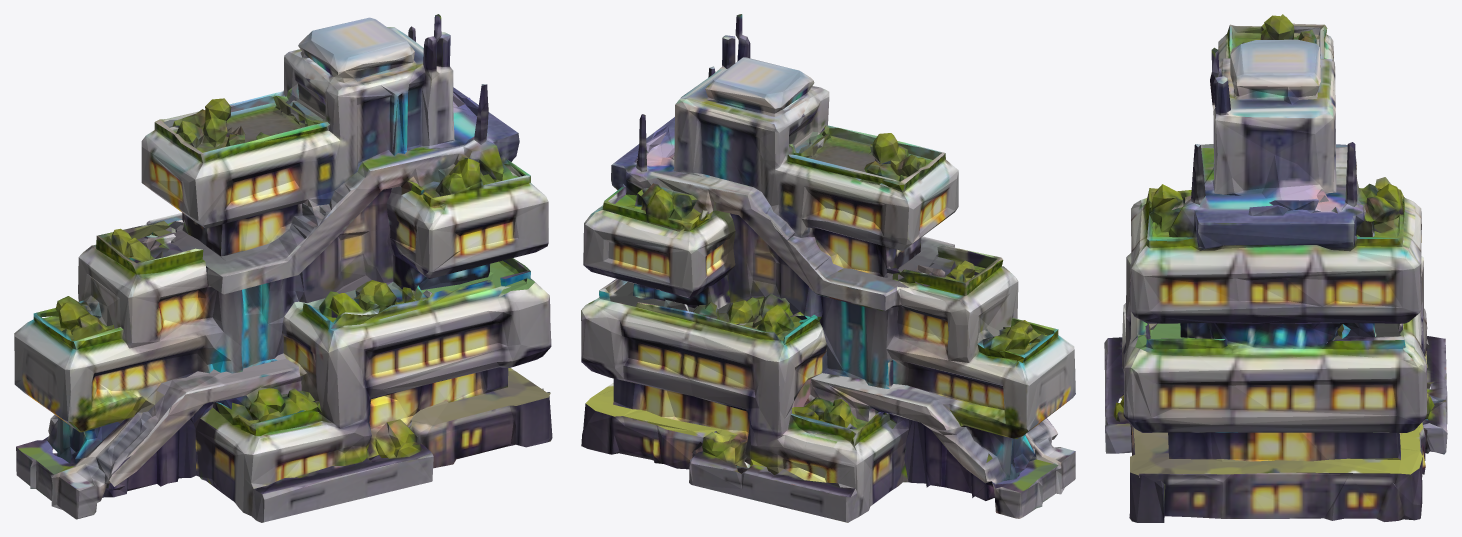
File: cyber_housing_block_1117.glb
The picture shows the model from 3 angles, left to right: view 1: azimuth 30°, elevation 25°; view 2: azimuth 150°, elevation 25°; view 3: azimuth 270°, elevation 25°; orthographic projection. The views are drawn at different scales.
Parts seen in each view (by area): view 1: tmpvkqmpkxo.ply; view 2: tmpvkqmpkxo.ply; view 3: tmpvkqmpkxo.ply.
Part boxes in pixels (x1,y1,x2,y2): tmpvkqmpkxo.ply: [14, 14, 552, 522]; tmpvkqmpkxo.ply: [581, 14, 1075, 522]; tmpvkqmpkxo.ply: [1104, 14, 1447, 522].
Size of the model in its own units: 1.97 by 1.74 by 1.25.
Materials: 1 (1 with a texture image).
